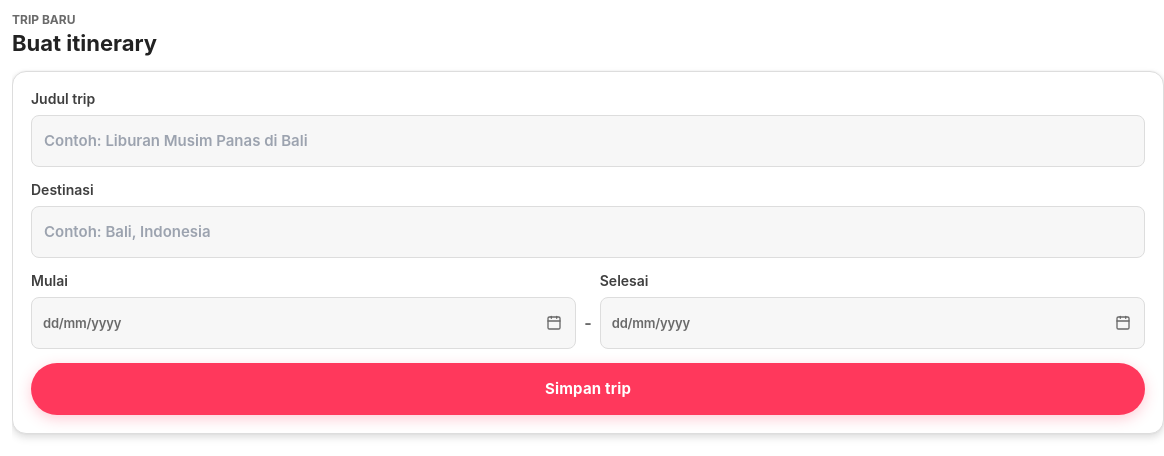
Scenario: TripForm › moves end date forward when start date passes existing end date
Type "2026-07-09" into the date field labelled "Selesai dd/mm/yyyy". click: (872, 323)
box: left=600, top=297, right=1145, bottom=349
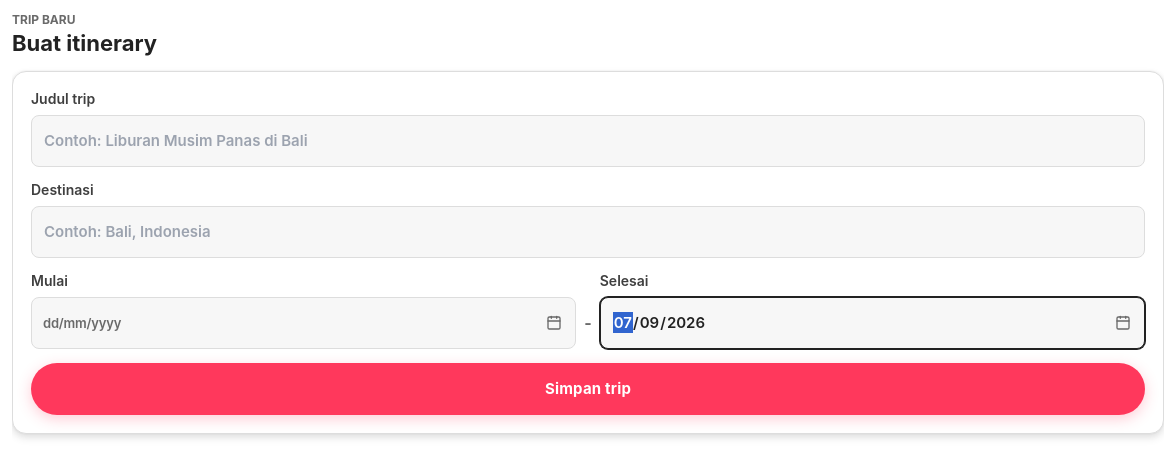
Type "2026-07-10" into the date field labelled "Mulai dd/mm/yyyy". click: (304, 323)
box: left=31, top=297, right=576, bottom=349
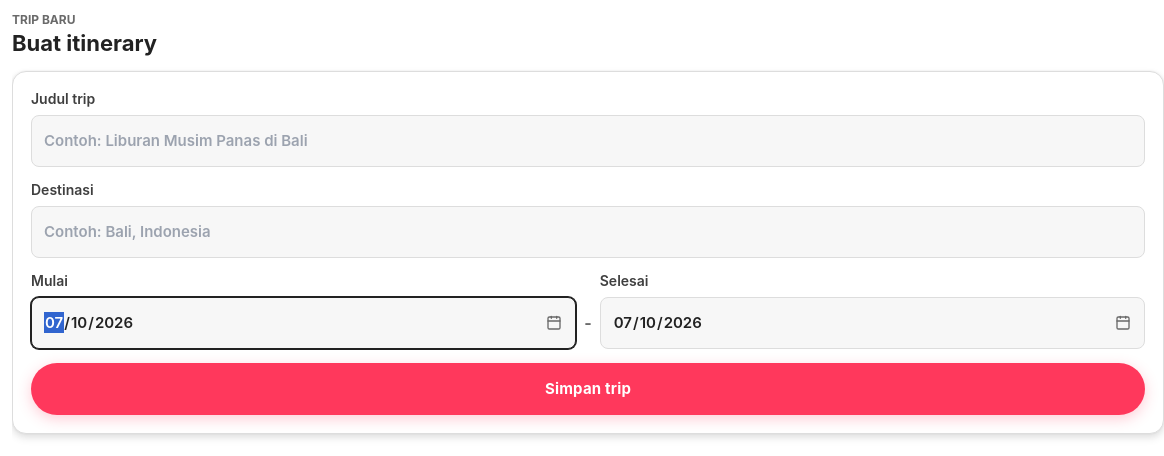
expect the date field labelled "Selesai" holds "2026-07-10": met, box left=600, top=297, right=1145, bottom=349
